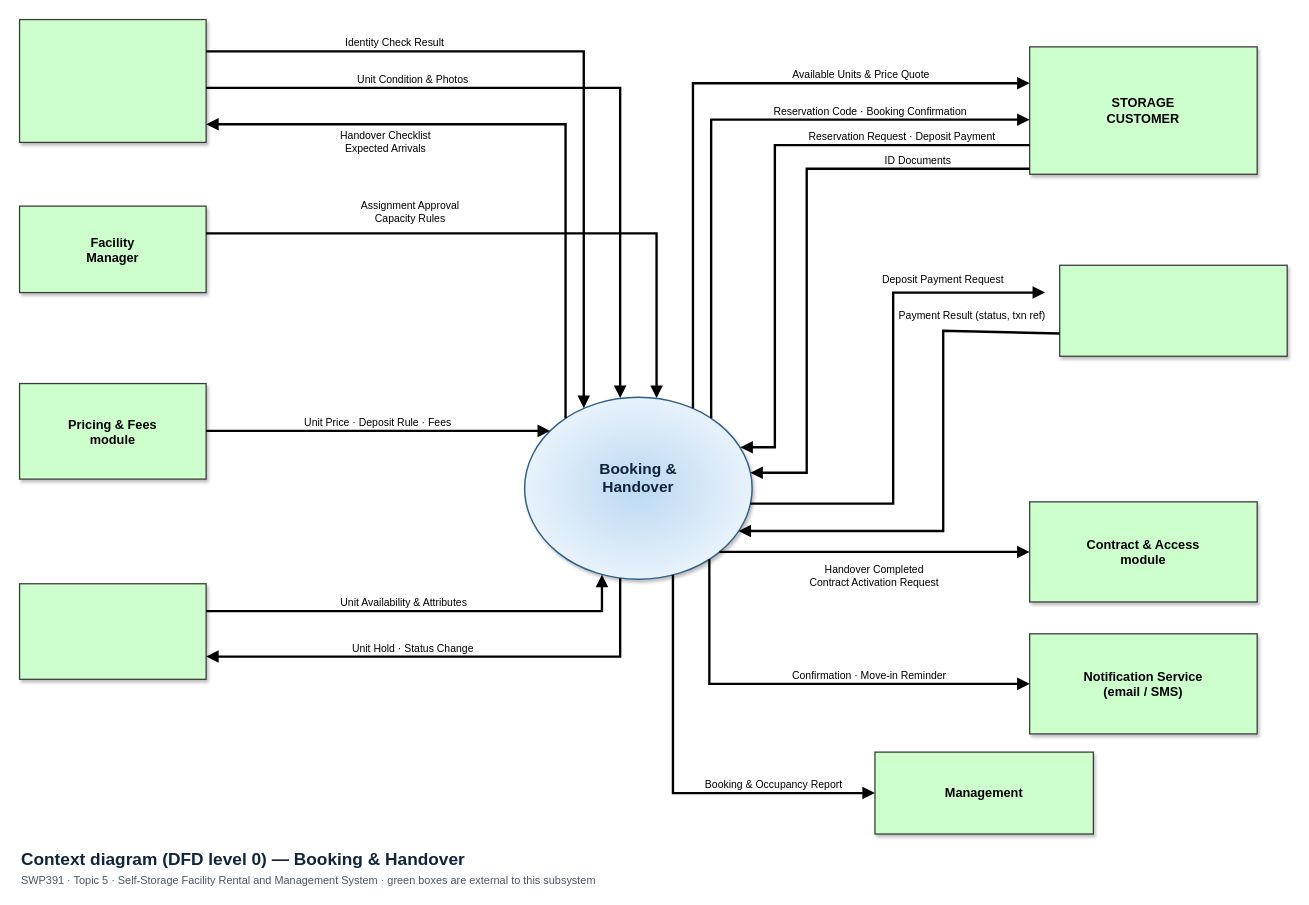
Some shapes in this 1309 by 905 pixel diagram are drawn without their labels. The shapes that lost their labels are listed below. From the top down, each one's centre as x and y in pixels, then its label:
point (113, 82): Facility Staff
point (1174, 312): Payment Gateway
point (113, 632): Facility & Units module
